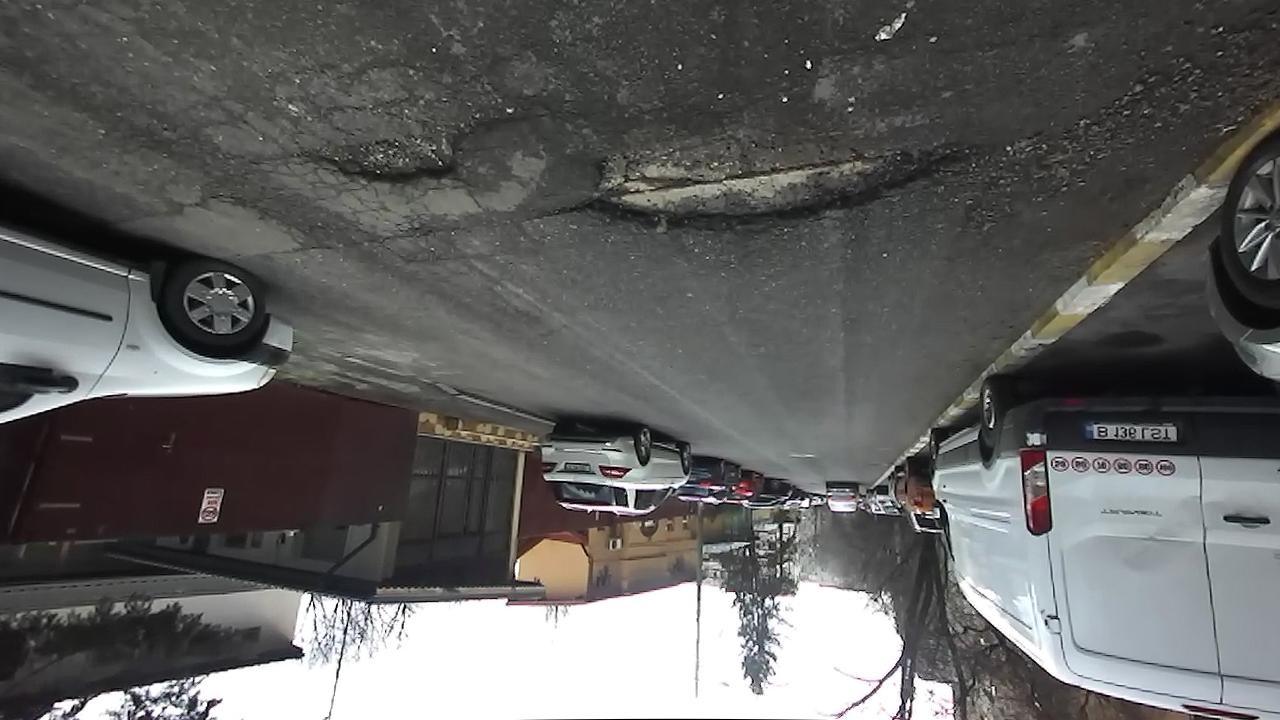pothole: (559, 112, 1004, 241), (295, 107, 491, 193)
